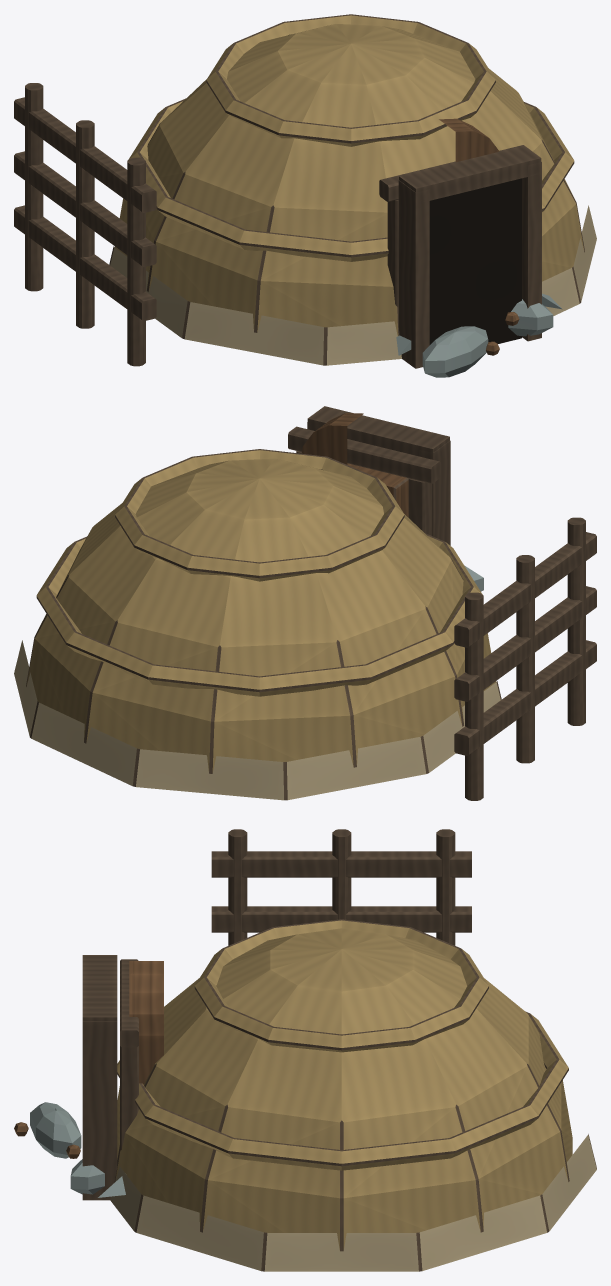
The model's file is windbreak-dome.glb.
3 renders of one model, top to bottom at view 1: azimuth 30°, elevation 25°; view 2: azimuth 150°, elevation 25°; view 3: azimuth 270°, elevation 25°, orthographic.
Visible parts, largest first — view 1: windbreak-dome; view 2: windbreak-dome; view 3: windbreak-dome.
Part boxes in pixels (x1,y1,x2,y2): windbreak-dome: (14,14,596,377); windbreak-dome: (14,406,596,800); windbreak-dome: (14,829,596,1271).
Size of the model in its own units: 0.651 by 0.28 by 0.6731.
Materials: 1 (1 with a texture image).
